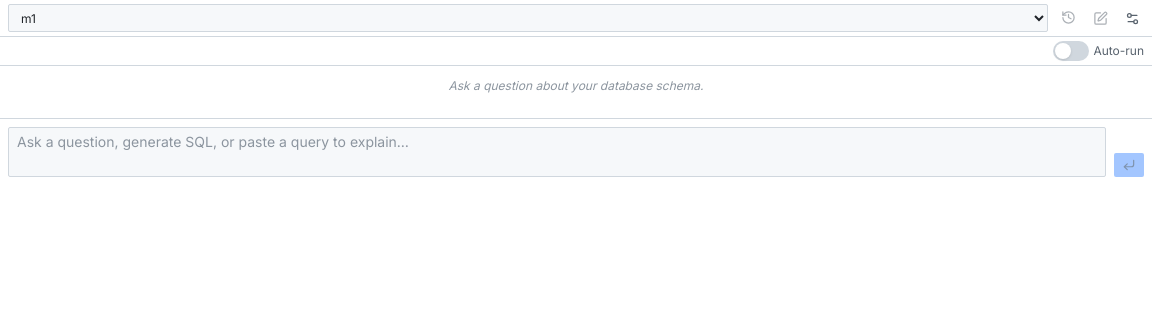
Test: ChatPanel — schema suggestions (Phase 33) › hides the button on a read-only connection, where DDL is blocked
The width and height of the screenshot is (1152, 325).
Type "how many users?" into the text box at [557, 152], box [8, 127, 1106, 177]
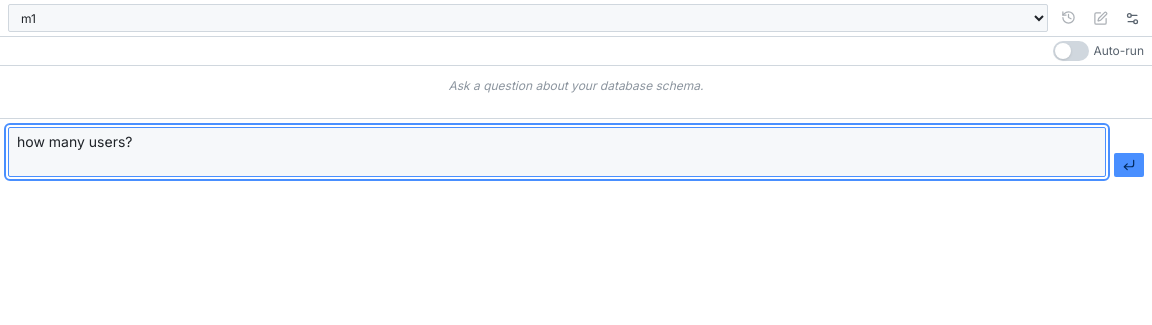
Click the button named "Send" at [1129, 165], box [1114, 153, 1144, 177]
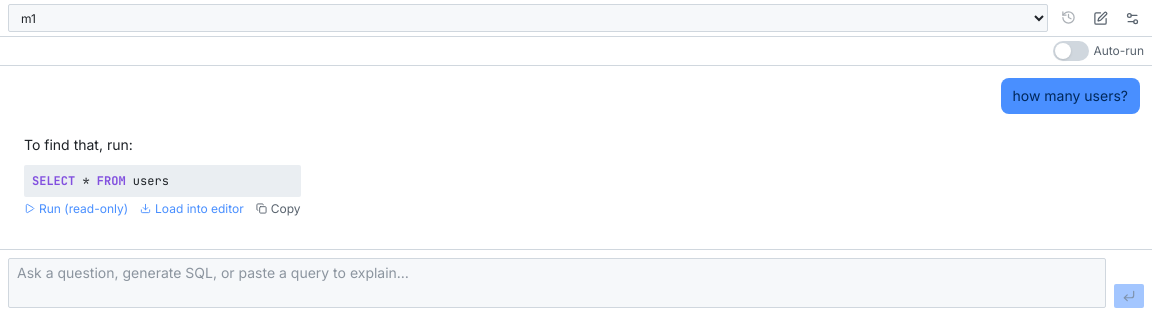
Check: the button "Run (read-only)" is shown, box [24, 201, 128, 217]
